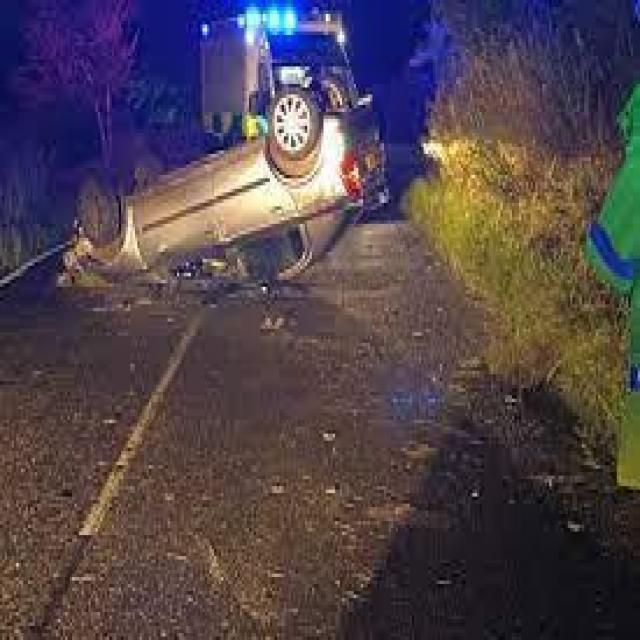accident: (70, 82, 384, 299)
